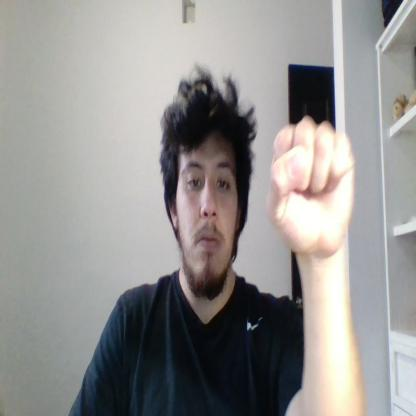S: (266, 115, 356, 257)
